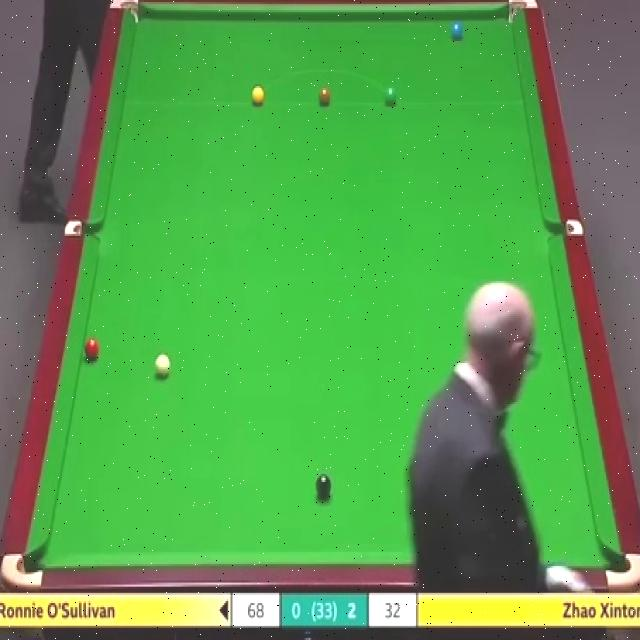black-ball: (314, 473, 332, 500)
blue-ball: (450, 21, 463, 39)
brown-ball: (317, 85, 332, 106)
green-ball: (382, 86, 397, 107)
red-ball: (84, 338, 100, 362)
white-ball: (154, 350, 170, 378)
yellow-ball: (250, 84, 264, 105)
